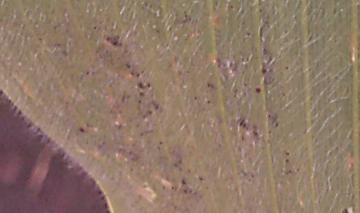tarspot: (179, 176, 188, 188), (205, 81, 216, 90), (169, 183, 177, 194), (338, 206, 350, 213), (253, 85, 262, 94), (137, 80, 145, 90), (195, 174, 205, 182), (273, 120, 281, 130), (239, 132, 246, 143), (77, 126, 86, 134), (122, 61, 131, 69), (251, 129, 260, 137), (238, 117, 245, 127), (191, 94, 199, 102), (91, 24, 99, 32), (153, 102, 161, 110), (160, 184, 168, 192), (261, 62, 266, 74), (138, 90, 146, 97), (146, 109, 154, 116), (257, 7, 264, 15), (265, 112, 273, 119), (111, 40, 118, 47), (205, 98, 212, 105), (228, 3, 235, 10), (145, 81, 151, 89), (284, 156, 290, 164), (158, 139, 166, 145), (104, 35, 110, 42), (284, 150, 291, 156), (283, 64, 289, 71), (245, 30, 251, 37), (84, 70, 90, 76), (136, 98, 142, 104)
